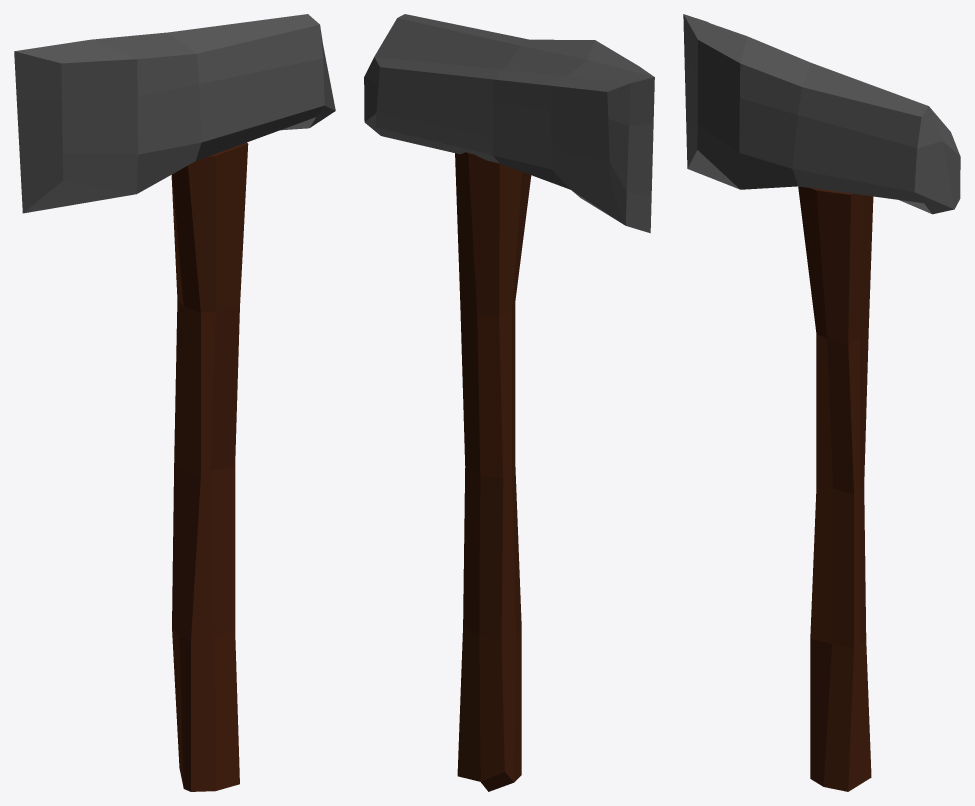
File: stoneAxe.fbx
The picture shows the model from 3 angles, left to right: view 1: azimuth 30°, elevation 25°; view 2: azimuth 150°, elevation 25°; view 3: azimuth 330°, elevation 25°; orthographic projection. The views are drawn at different scales.
Visible parts, largest first — view 1: Cube, Куб; view 2: Cube, Куб; view 3: Cube, Куб.
Part boxes in pixels (x1=…): Cube: x1=14, y1=14, x2=335, y2=213; Куб: x1=171, y1=142, x2=248, y2=791; Cube: x1=364, y1=14, x2=654, y2=233; Куб: x1=455, y1=152, x2=531, y2=791; Cube: x1=683, y1=14, x2=960, y2=214; Куб: x1=798, y1=186, x2=873, y2=791.
Size of the model in its own units: 155 by 376 by 39.99.
